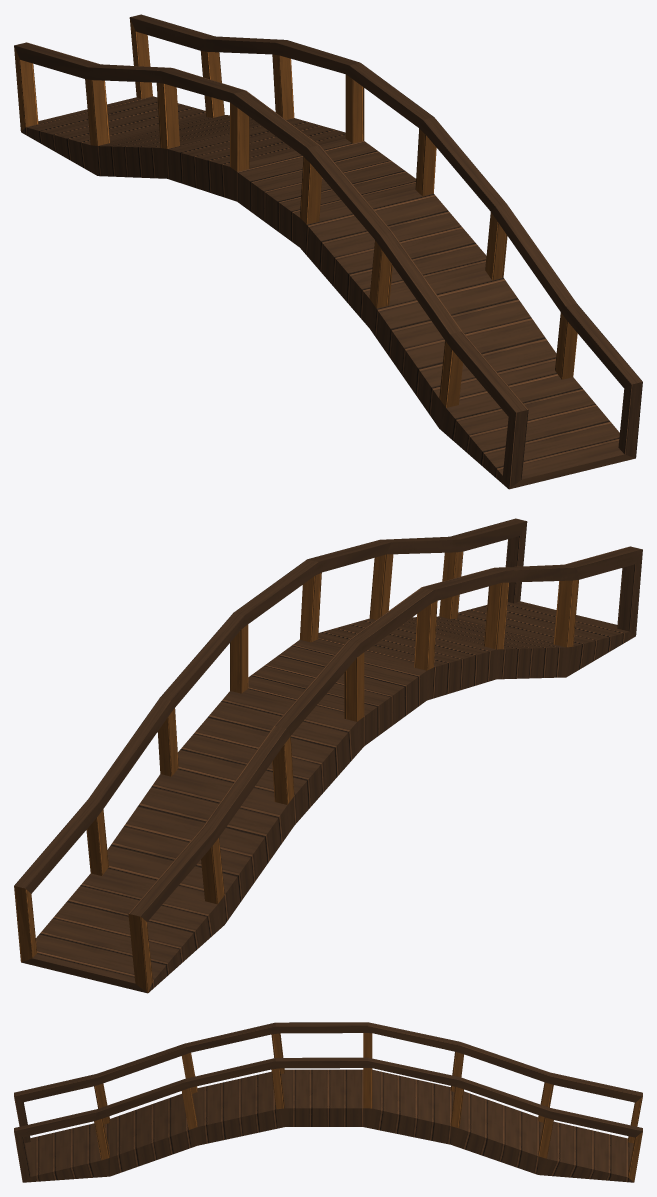
The model's file is co_Bridge3.fbx.
3 views of the same model, one above another, from view 1: azimuth 30°, elevation 25°; view 2: azimuth 150°, elevation 25°; view 3: azimuth 270°, elevation 25° (orthographic). The views are drawn at different scales.
Parts seen in each view (by area): view 1: Bridge3; view 2: Bridge3; view 3: Bridge3.
Part boxes in pixels (box(x1,y1,x2,y2)): Bridge3: box(14, 14, 642, 489); Bridge3: box(14, 518, 642, 993); Bridge3: box(14, 1022, 642, 1182).
Bounding box in the file's own units: 887 × 1295 × 6064.
